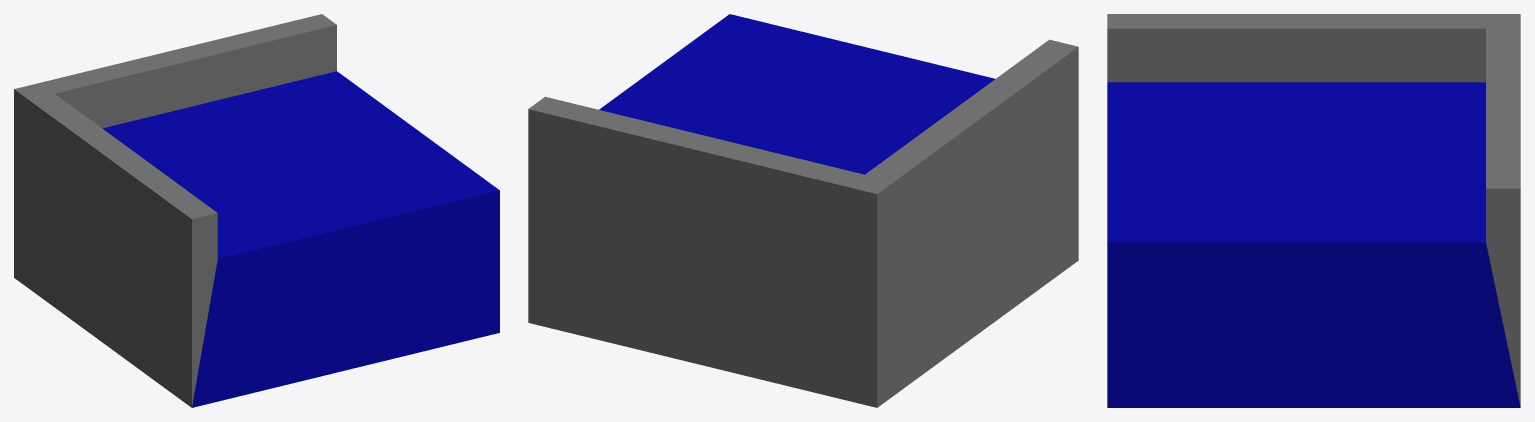
The model's file is sea3.fbx.
The picture shows the model from 3 angles, left to right: view 1: azimuth 30°, elevation 25°; view 2: azimuth 150°, elevation 25°; view 3: azimuth 270°, elevation 25°; orthographic projection. The views are drawn at different scales.
Visible parts, largest first — view 1: sea; view 2: sea; view 3: sea.
Part boxes in pixels (x1,y1,x2,y2): sea: (14, 14, 499, 407); sea: (528, 14, 1078, 407); sea: (1107, 14, 1520, 407).
Size of the model in its own units: 6.36 by 3.72 by 6.36.
